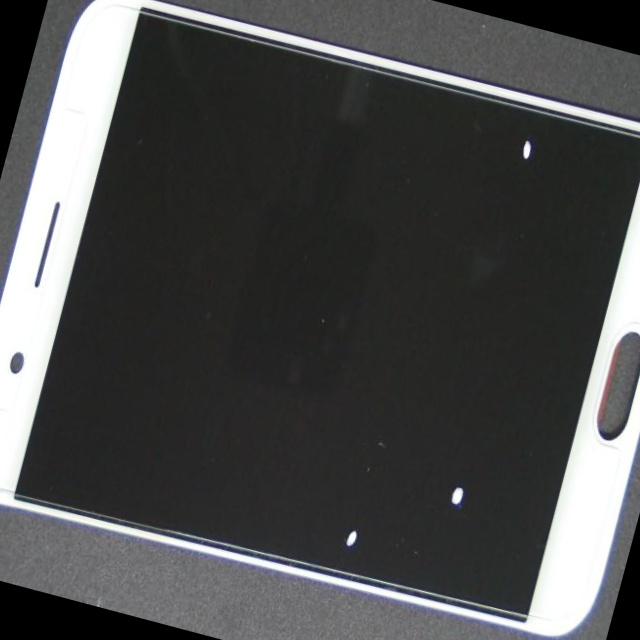stain: (125, 180, 625, 640), (177, 188, 640, 640), (282, 0, 640, 236)
